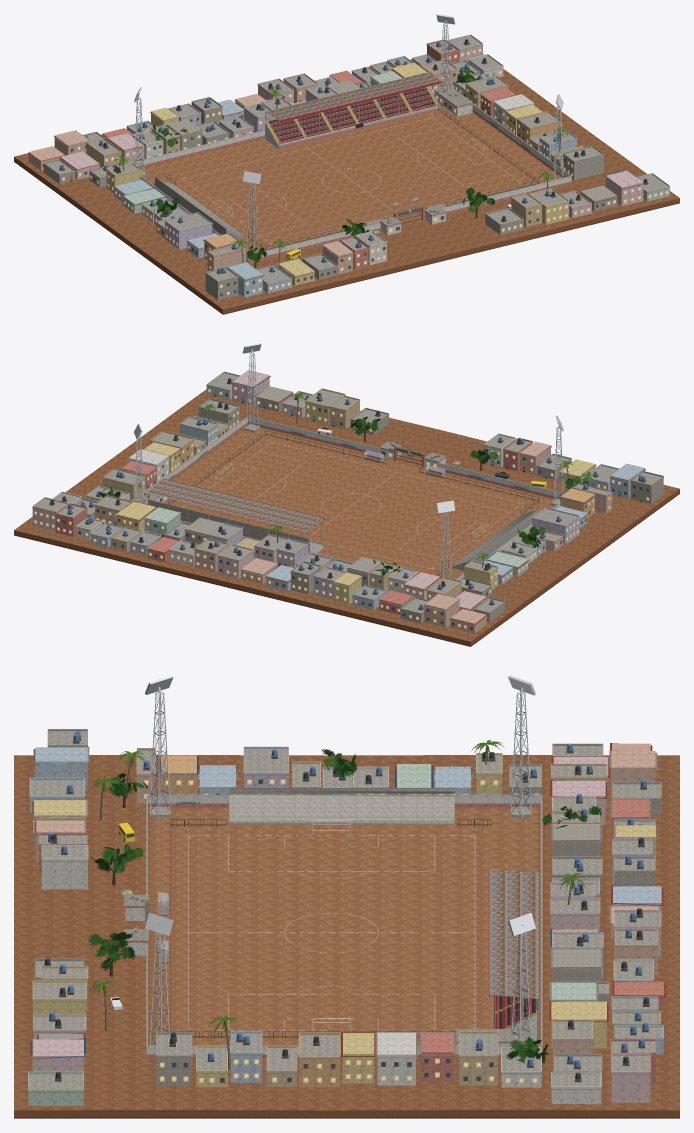
The model's file is pelado_marcal.glb.
The picture shows the model from 3 angles, top to bottom: view 1: azimuth 30°, elevation 25°; view 2: azimuth 150°, elevation 25°; view 3: azimuth 270°, elevation 25°; orthographic projection. The views are drawn at different scales.
Visible parts, largest first — view 1: Terra_Batida, Casas_03, Casas_02, Casas_00, Casas_01, Bancada_Coberta_Norte, Corte_Solo, Muros, Bancada_Coberta_Norte_Cobertura, Arvores, Guaritas_Quiosque, Degraus_Oeste (+7 smaller); view 2: Terra_Batida, Casas_01, Casas_03, Casas_02, Casas_00, Corte_Solo, Bancada_Coberta_Norte_Cobertura, Muros, Arvores, Bancada_Coberta_Norte, Degraus_Oeste, Vedacao_Campo (+7 smaller); view 3: Terra_Batida, Casas_02, Casas_00, Casas_03, Casas_01, Degraus_Oeste, Corte_Solo, Bancada_Coberta_Norte_Cobertura, Arvores, Muros, Torre_4, Torre_3 (+7 smaller).
Boxes of the visible parts, x1,y1,x2,y2 form: Terra_Batida: [14, 54, 679, 309]; Casas_03: [205, 170, 669, 300]; Casas_02: [89, 73, 604, 259]; Casas_00: [43, 54, 503, 184]; Casas_01: [27, 34, 482, 170]; Bancada_Coberta_Norte: [265, 86, 440, 148]; Corte_Solo: [14, 157, 679, 314]; Muros: [124, 85, 571, 262]; Bancada_Coberta_Norte_Cobertura: [265, 72, 441, 145]; Arvores: [153, 67, 494, 268]; Guaritas_Quiosque: [373, 86, 472, 235]; Degraus_Oeste: [155, 177, 244, 239]; Terra_Batida: [14, 389, 679, 641]; Casas_01: [32, 497, 487, 633]; Casas_03: [206, 370, 663, 513]; Casas_02: [86, 398, 596, 597]; Casas_00: [52, 491, 505, 622]; Corte_Solo: [14, 489, 679, 646]; Bancada_Coberta_Norte_Cobertura: [148, 478, 324, 551]; Muros: [153, 416, 562, 580]; Arvores: [99, 416, 587, 576]; Bancada_Coberta_Norte: [148, 500, 323, 553]; Degraus_Oeste: [452, 507, 541, 570]; Vedacao_Campo: [166, 431, 539, 575]; Terra_Batida: [14, 755, 679, 1110]; Casas_02: [156, 746, 541, 1087]; Casas_00: [549, 743, 609, 1104]; Casas_03: [28, 729, 155, 1105]; Casas_01: [609, 743, 665, 1102]; Degraus_Oeste: [229, 788, 454, 824]; Corte_Solo: [14, 1110, 679, 1118]; Bancada_Coberta_Norte_Cobertura: [489, 868, 538, 1039]; Arvores: [88, 749, 601, 1063]; Muros: [146, 794, 542, 1058]; Torre_4: [508, 675, 535, 818]; Torre_3: [145, 675, 173, 818].
Bounding box in the file's own units: 164 × 30.93 × 130.
62 materials, 53 textured.
